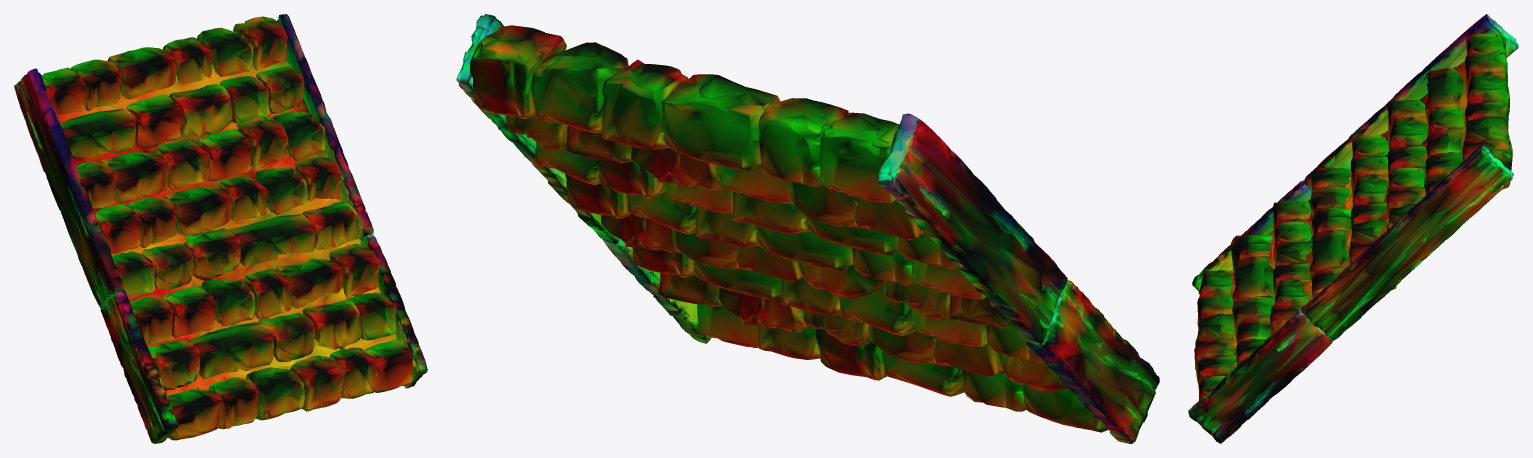
File: SM_Stone_Stairs.fbx
3 views of the same model, side by side, from view 1: azimuth 30°, elevation 25°; view 2: azimuth 150°, elevation 25°; view 3: azimuth 270°, elevation 25° (orthographic). The views are drawn at different scales.
Parts seen in each view (by area): view 1: SM_Stone_Stairs_LOD0; view 2: SM_Stone_Stairs_LOD0; view 3: SM_Stone_Stairs_LOD0.
Boxes of the visible parts, box(x1,y1,x2,y2) form: SM_Stone_Stairs_LOD0: box(14, 14, 427, 443); SM_Stone_Stairs_LOD0: box(456, 14, 1159, 443); SM_Stone_Stairs_LOD0: box(1188, 14, 1518, 443).
Size of the model in its own units: 325 by 339 by 340.
